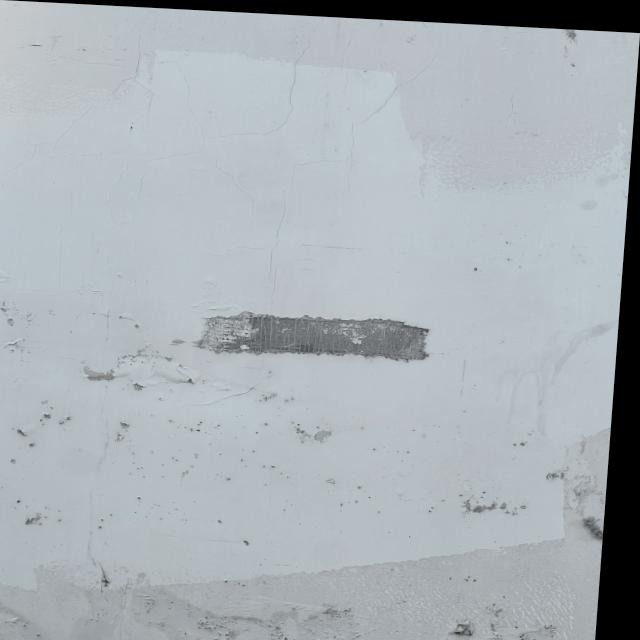spalling: (182, 299, 447, 374)
